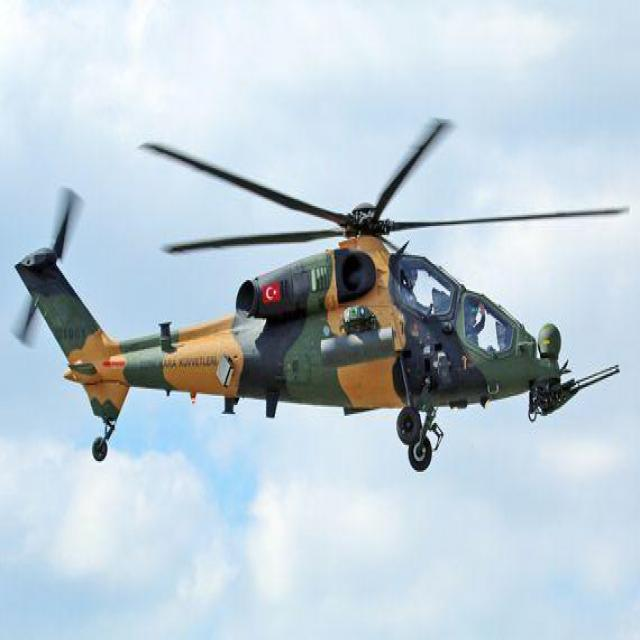MIL_HELO: (4, 101, 640, 477)
